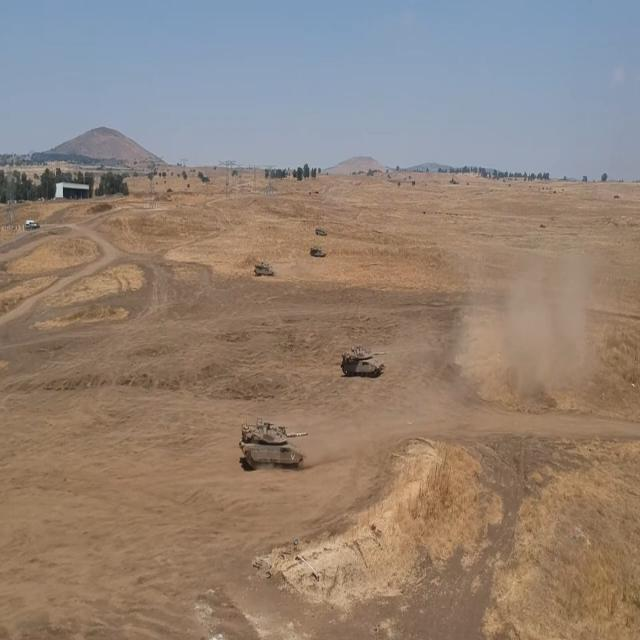tank: (234, 407, 311, 477), (339, 339, 389, 385), (255, 252, 282, 281), (307, 245, 327, 260), (312, 224, 328, 238)
